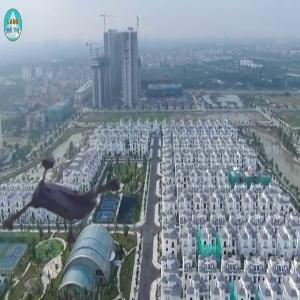drone: (9, 122, 146, 259)
